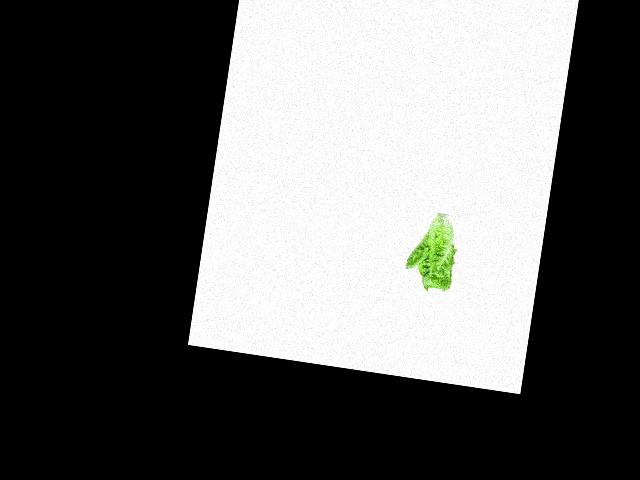lettuce: (402, 212, 464, 295)
